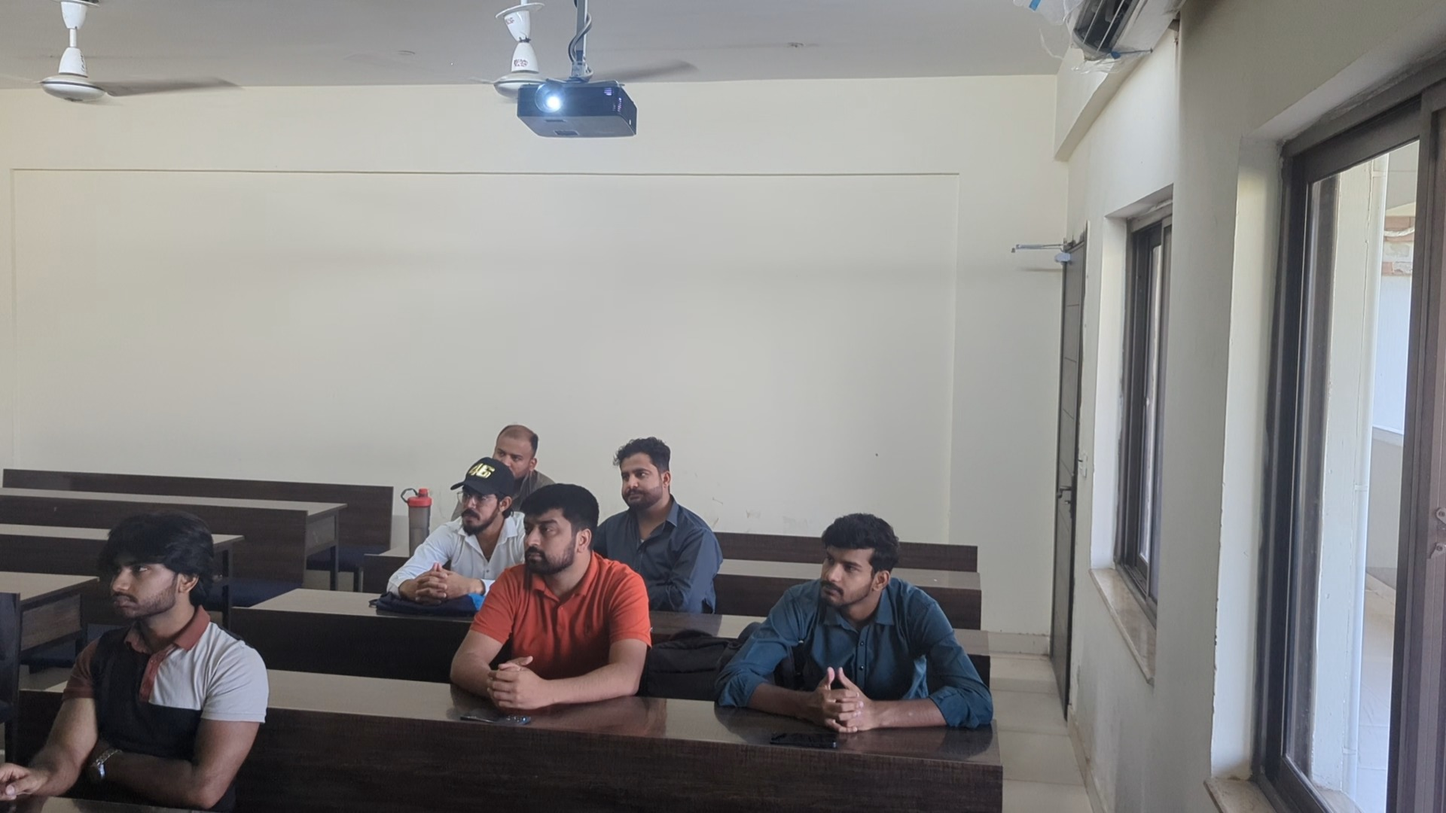look_forward: (777, 538, 977, 723), (68, 509, 232, 713), (604, 436, 755, 633), (485, 503, 626, 648), (407, 449, 496, 593), (478, 408, 576, 506)
